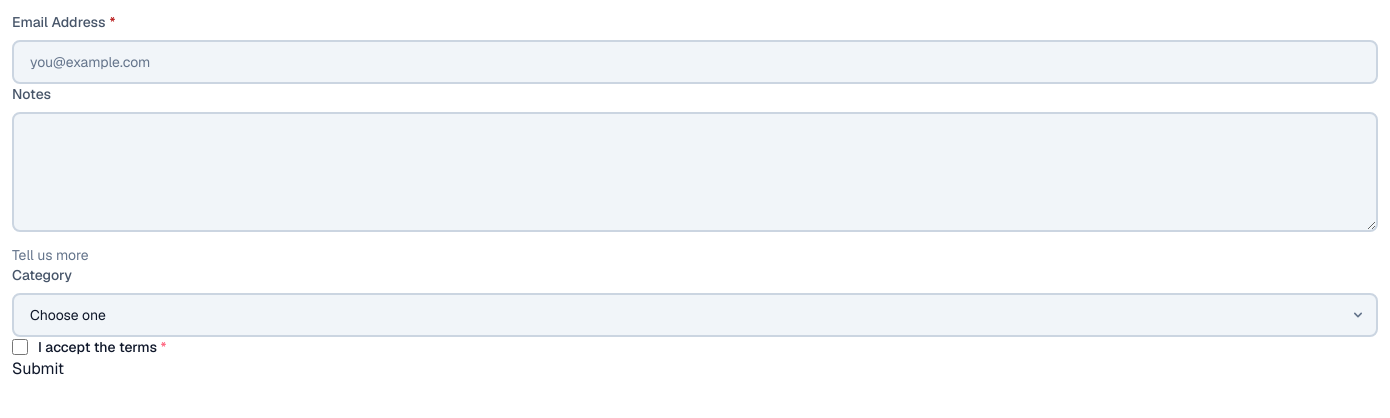
RHF form controls › surfaces validation errors on blur with aria-invalid and aria-describedby
Type "not-an-email" into the field labelled "Email Address *" at (695, 62), box [12, 40, 1378, 84]
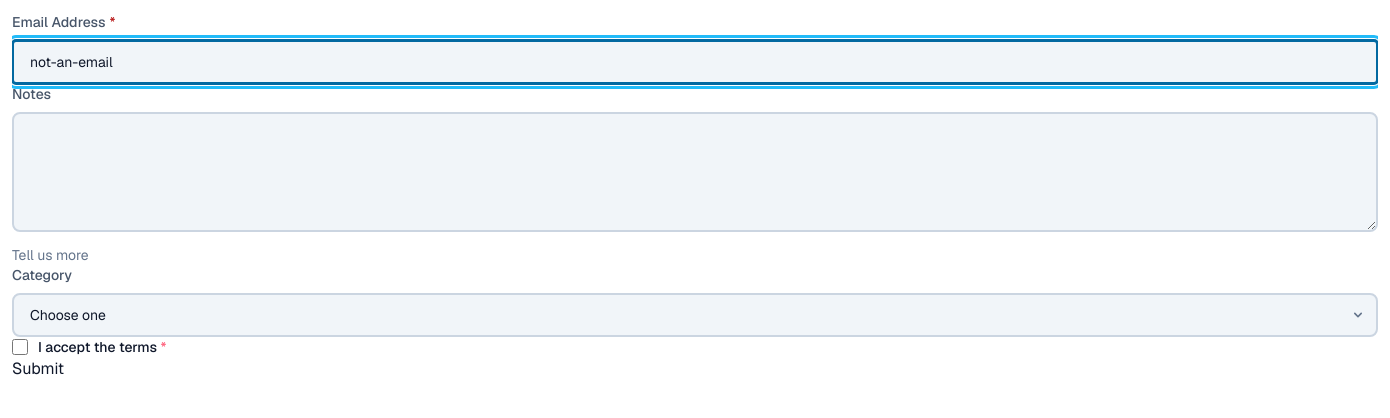
Press Tab
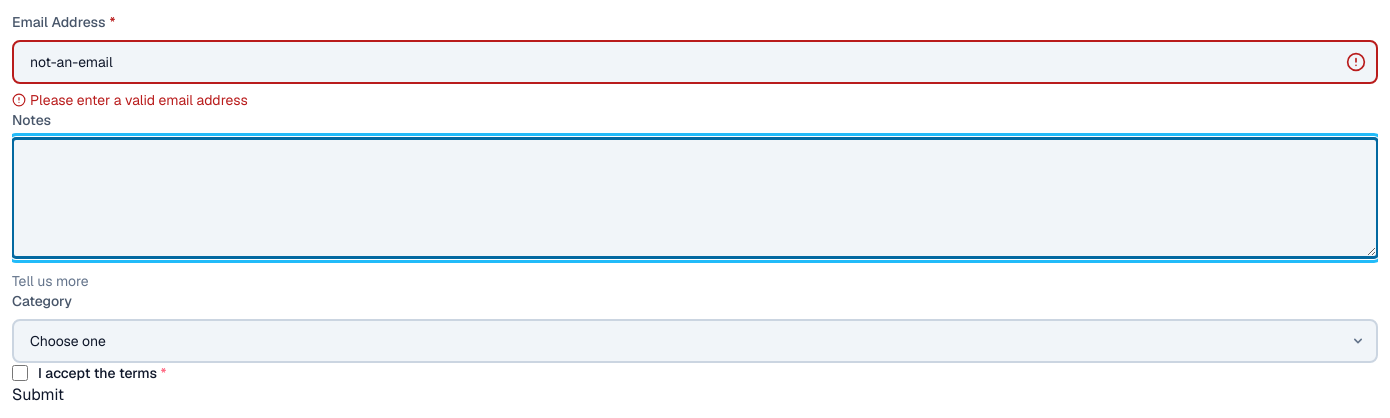
Expected: the message reads "Please enter a valid email address", [30, 91, 248, 109]
